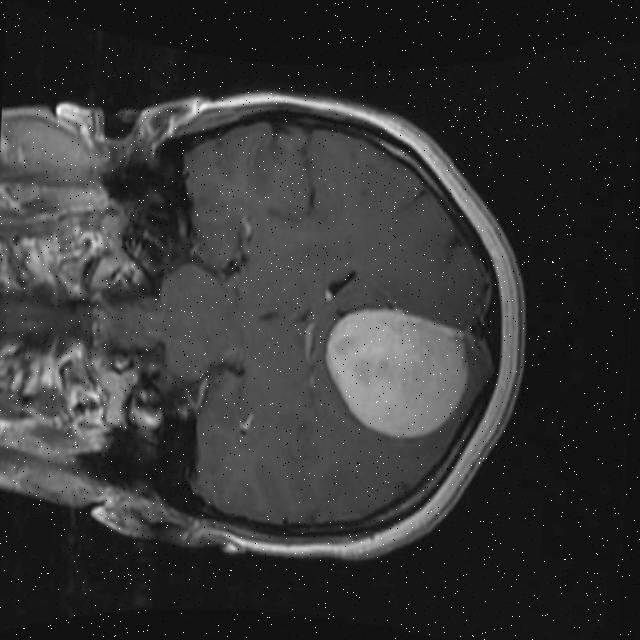Meningioma: (320, 300, 472, 444)
